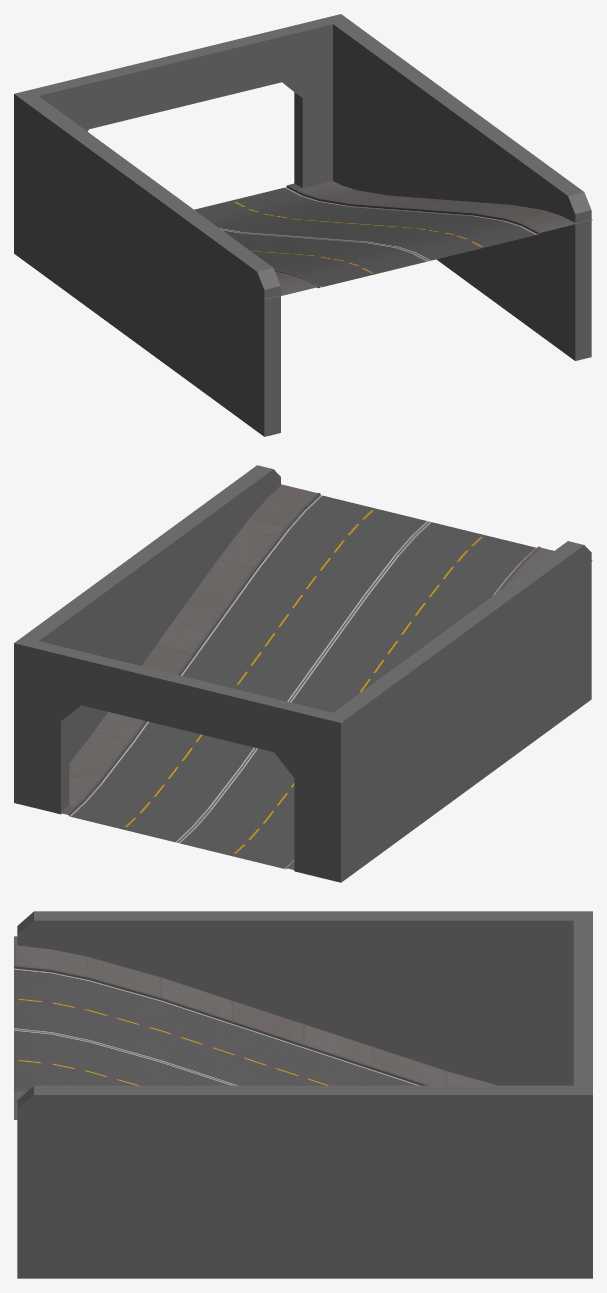
The model's file is SM_Floor_Road_20.fbx.
The picture shows the model from 3 angles, top to bottom: view 1: azimuth 30°, elevation 25°; view 2: azimuth 150°, elevation 25°; view 3: azimuth 270°, elevation 25°; orthographic projection. The views are drawn at different scales.
Parts seen in each view (by area): view 1: SM_Floor_Road_20; view 2: SM_Floor_Road_20; view 3: SM_Floor_Road_20.
Part boxes in pixels (bbox=[...]): SM_Floor_Road_20: bbox=[14, 14, 592, 436]; SM_Floor_Road_20: bbox=[14, 465, 592, 882]; SM_Floor_Road_20: bbox=[14, 911, 592, 1278].
Bounding box in the file's own units: 15 × 7 × 20.
